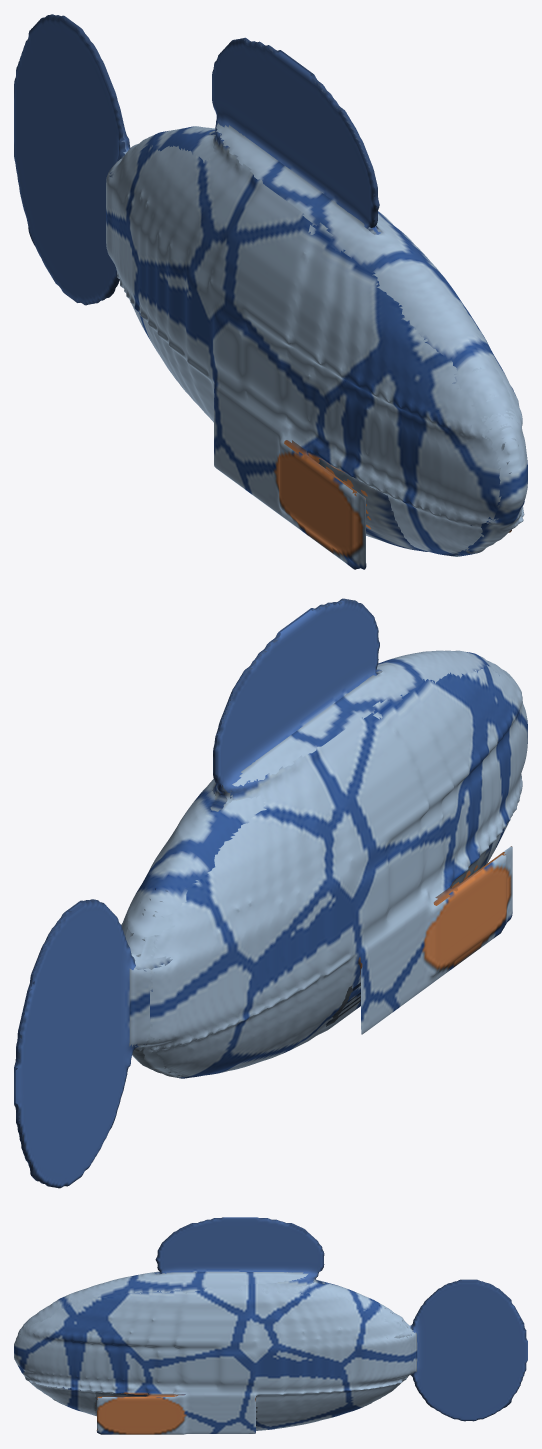
The picture shows the model from 3 angles, top to bottom: view 1: azimuth 30°, elevation 25°; view 2: azimuth 150°, elevation 25°; view 3: azimuth 270°, elevation 25°; orthographic projection. The views are drawn at different scales.
Visible parts, largest first — view 1: animal; view 2: animal; view 3: animal.
Part boxes in pixels (<box>): animal: <box>14,14,527,569</box>; animal: <box>14,598,527,1188</box>; animal: <box>14,1217,527,1434</box>.
Bounding box in the file's own units: 0.0725 × 0.1873 × 0.4071.
Materials: 1 (1 with a texture image).
